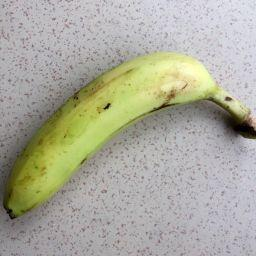Banana Ripe: (3, 52, 256, 223)
